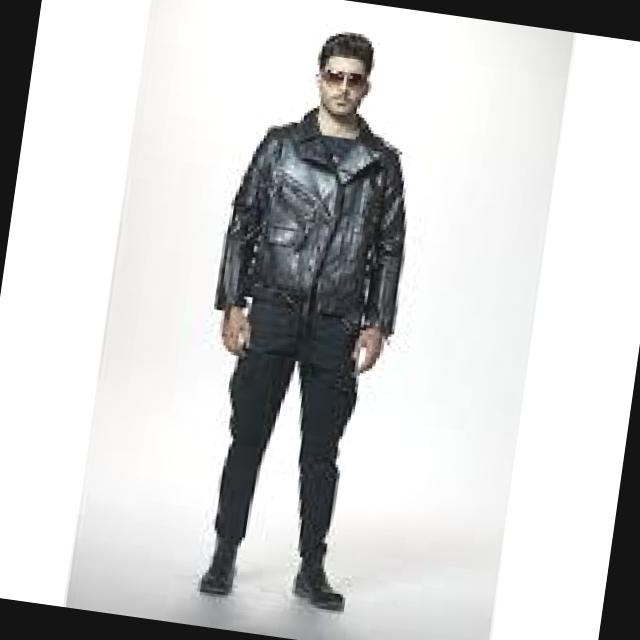jacket: (208, 110, 420, 352)
pants: (196, 308, 363, 576)
